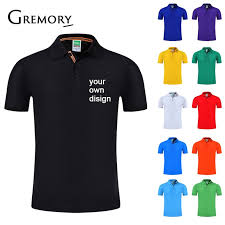S_polo shirt: (7, 35, 152, 213)
